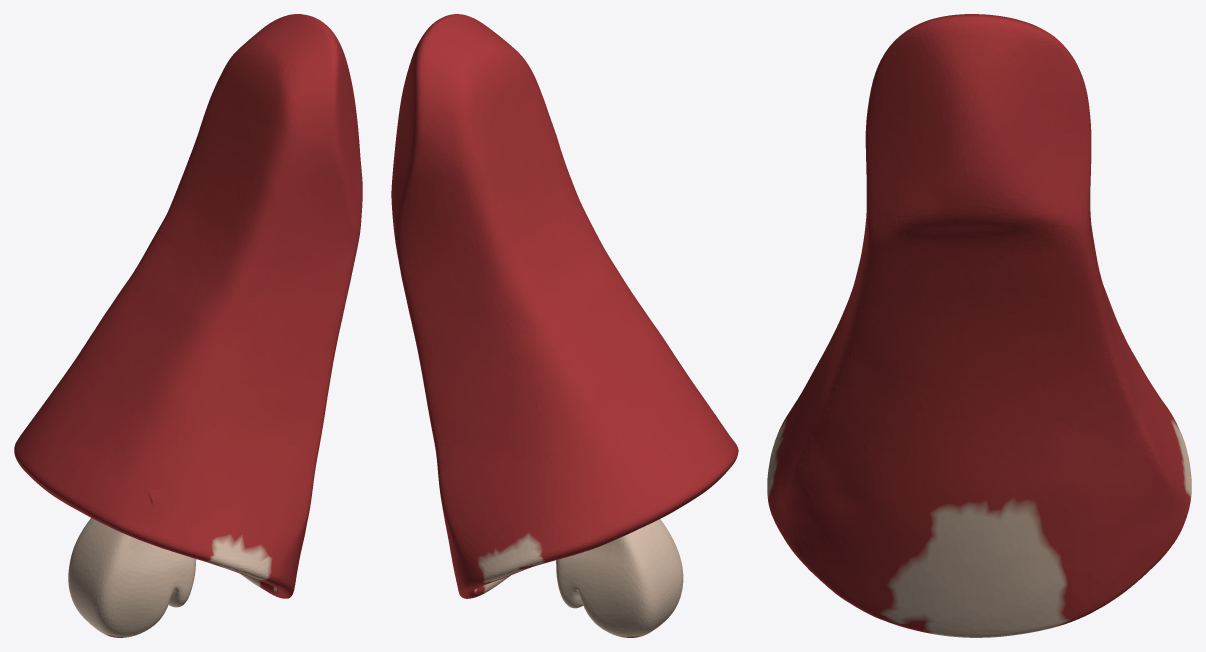
File: arm_R.glb
The picture shows the model from 3 angles, left to right: view 1: azimuth 30°, elevation 25°; view 2: azimuth 150°, elevation 25°; view 3: azimuth 270°, elevation 25°; orthographic projection. The views are drawn at different scales.
Visible parts, largest first — view 1: geometry_0; view 2: geometry_0; view 3: geometry_0.
Part boxes in pixels (x1,y1,x2,y2): geometry_0: (14, 14, 362, 637); geometry_0: (391, 14, 738, 637); geometry_0: (767, 14, 1191, 637).
Size of the model in its own units: 0.2637 by 0.4636 by 0.2596.
